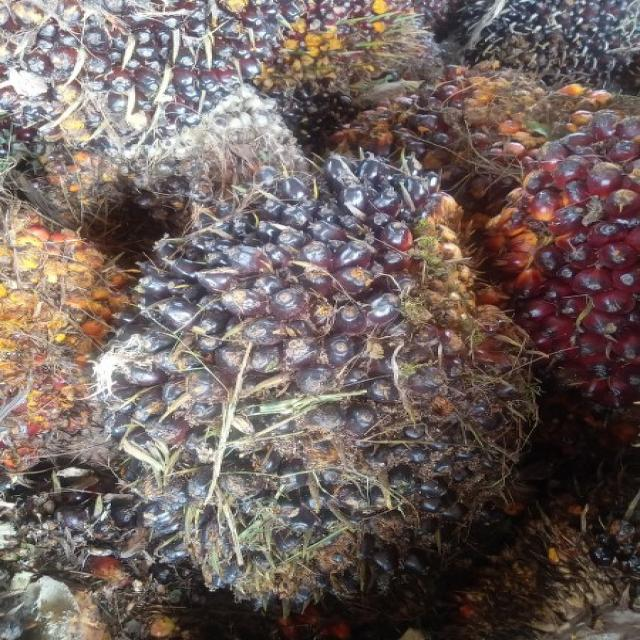fraksi 00: (110, 139, 550, 604)
